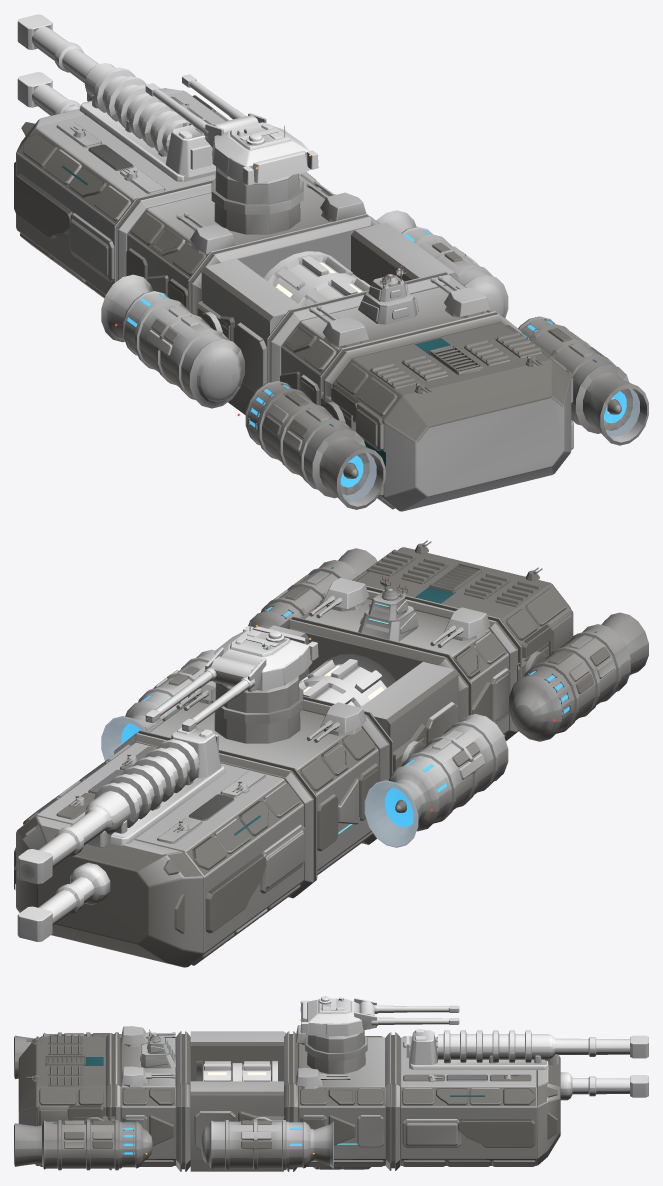
File: troyden_capital.glb
3 renders of one model, top to bottom at view 1: azimuth 30°, elevation 25°; view 2: azimuth 150°, elevation 25°; view 3: azimuth 270°, elevation 25°, orthographic. The views are drawn at different scales.
Visible parts, largest first — view 1: hull, engines, turret_0, turret_1, reactor, aux_2, aux_3, aux_0, aux_1; view 2: hull, engines, turret_0, turret_1, reactor, aux_0, aux_2, aux_3; view 3: hull, engines, turret_0, turret_1, reactor, aux_1, aux_3, aux_2.
Part boxes in pixels (x1=…): hull: x1=14, y1=88, x2=575, y2=511; engines: x1=101, y1=210, x2=648, y2=509; turret_0: x1=17, y1=14, x2=215, y2=181; turret_1: x1=145, y1=74, x2=318, y2=185; reactor: x1=263, y1=251, x2=370, y2=306; aux_2: x1=309, y1=305, x2=368, y2=347; aux_3: x1=430, y1=276, x2=490, y2=317; aux_0: x1=176, y1=213, x2=236, y2=254; aux_1: x1=306, y1=181, x2=366, y2=221; hull: x1=14, y1=547, x2=574, y2=967; engines: x1=101, y1=548, x2=648, y2=847; turret_0: x1=17, y1=727, x2=225, y2=941; turret_1: x1=145, y1=620, x2=318, y2=731; reactor: x1=299, y1=654, x2=395, y2=707; aux_0: x1=306, y1=702, x2=366, y2=742; aux_2: x1=430, y1=607, x2=490, y2=647; aux_3: x1=309, y1=577, x2=368, y2=618; hull: x1=18, y1=1029, x2=560, y2=1171; engines: x1=14, y1=1032, x2=333, y2=1170; turret_0: x1=406, y1=1029, x2=648, y2=1100; turret_1: x1=300, y1=996, x2=459, y2=1039; reactor: x1=196, y1=1061, x2=277, y2=1081; aux_1: x1=296, y1=1068, x2=350, y2=1088; aux_3: x1=121, y1=1066, x2=175, y2=1087; aux_2: x1=121, y1=1026, x2=175, y2=1046.
Bounding box in the file's own units: 81.92 × 58.45 × 207.
11 materials, 4 textured.
